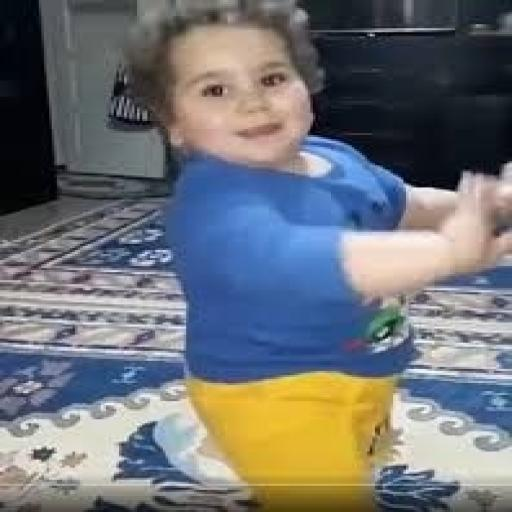dancing: (119, 0, 509, 510)
